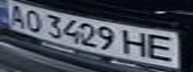2: (78, 20, 100, 48)
3: (42, 12, 66, 39)
4: (60, 17, 81, 44)
9: (93, 24, 121, 52)
A: (3, 1, 30, 28)
E: (145, 32, 181, 63)
H: (121, 28, 154, 57)
O: (21, 7, 45, 34)
